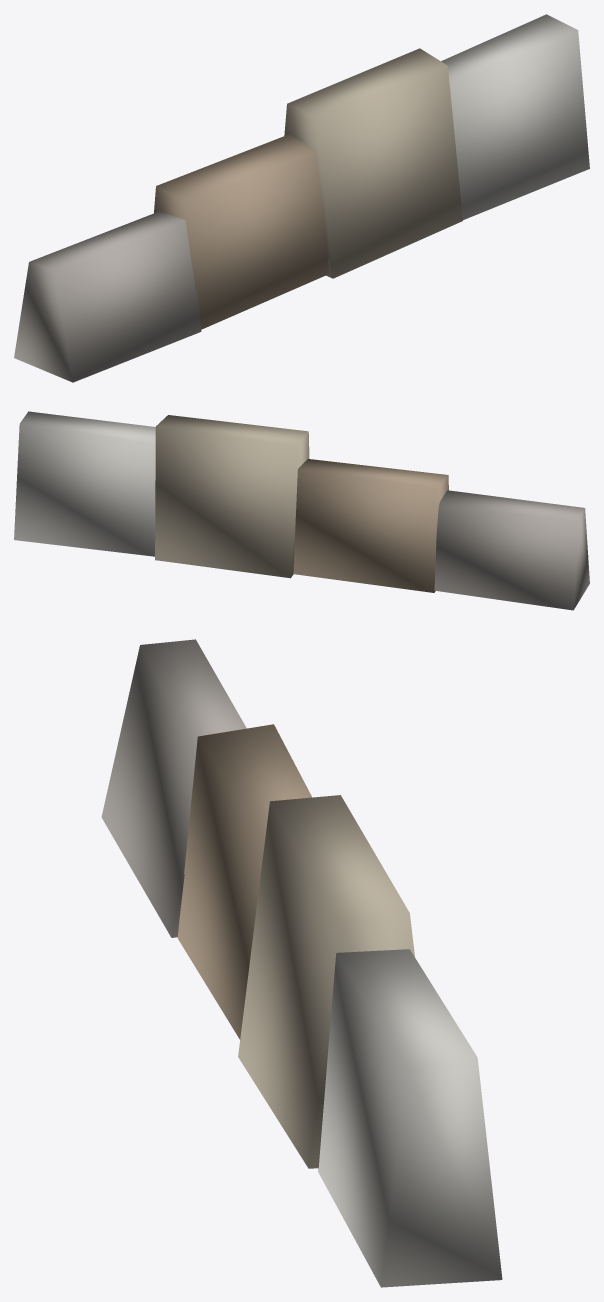
File: farm_-2_9_far.glb
The picture shows the model from 3 angles, top to bottom: view 1: azimuth 30°, elevation 25°; view 2: azimuth 150°, elevation 25°; view 3: azimuth 270°, elevation 25°; orthographic projection. The views are drawn at different scales.
Parts seen in each view (by area): view 1: geometry_0; view 2: geometry_0; view 3: geometry_0.
Part boxes in pixels (x1,y1,x2,y2): geometry_0: [14, 14, 589, 382]; geometry_0: [14, 411, 589, 610]; geometry_0: [101, 639, 502, 1287].
Size of the model in its own units: 6.34 by 1.54 by 2.19.
